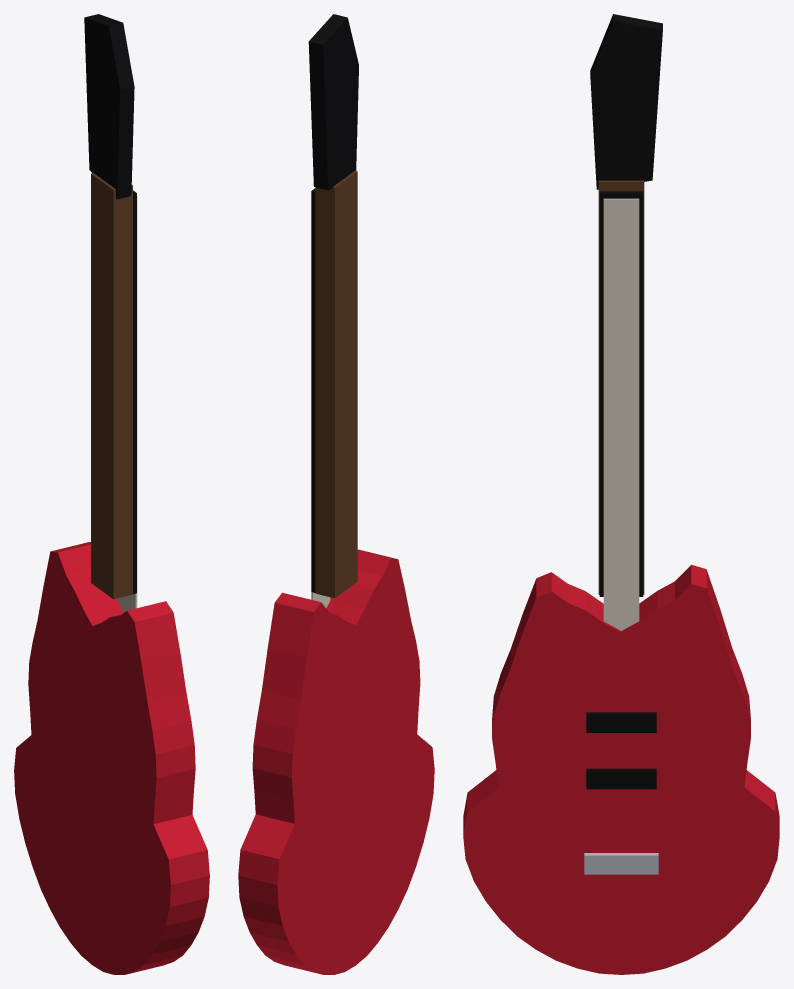
The model's file is electric_guitar.glb.
3 views of the same model, side by side, from view 1: azimuth 30°, elevation 25°; view 2: azimuth 150°, elevation 25°; view 3: azimuth 270°, elevation 25° (orthographic).
Parts seen in each view (by area): view 1: electric_guitar; view 2: electric_guitar; view 3: electric_guitar.
Part boxes in pixels (x1,y1,x2,y2): electric_guitar: (14, 14, 209, 974); electric_guitar: (238, 14, 434, 974); electric_guitar: (463, 14, 779, 974).
Bounding box in the file's own units: 0.05 × 1.01 × 0.3057.
